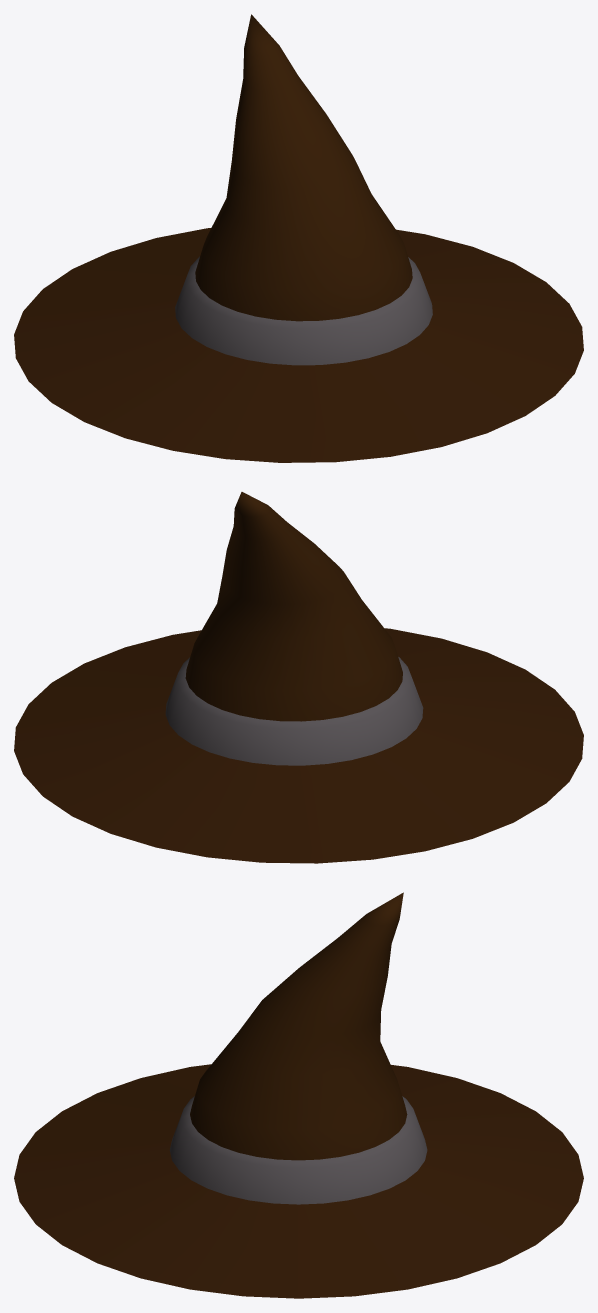
Rendered from wizardHatFBX.fbx.
3 views of the same model, one above another, from view 1: azimuth 30°, elevation 25°; view 2: azimuth 150°, elevation 25°; view 3: azimuth 270°, elevation 25° (orthographic).
Visible parts, largest first — view 1: Cylinder; view 2: Cylinder; view 3: Cylinder.
Boxes of the visible parts, x1,y1,x2,y2 form: Cylinder: (14,14,583,462); Cylinder: (14,492,583,863); Cylinder: (14,892,583,1298).
Bounding box in the file's own units: 200 × 112 × 200.
